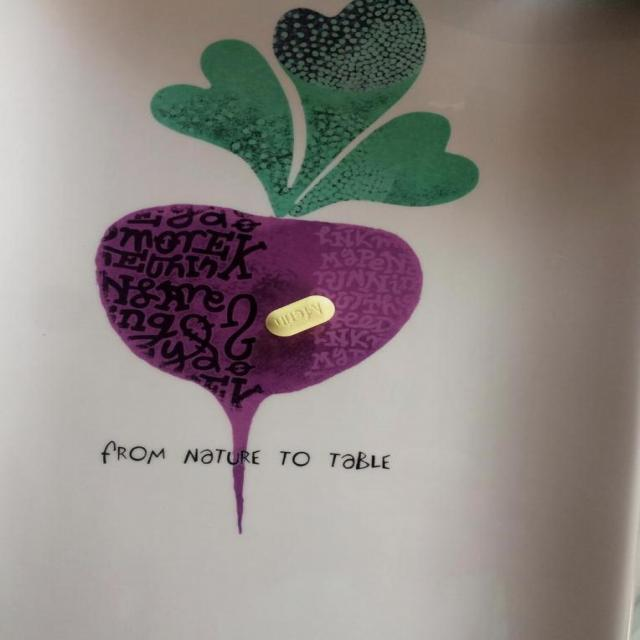pill: (262, 290, 334, 336)
